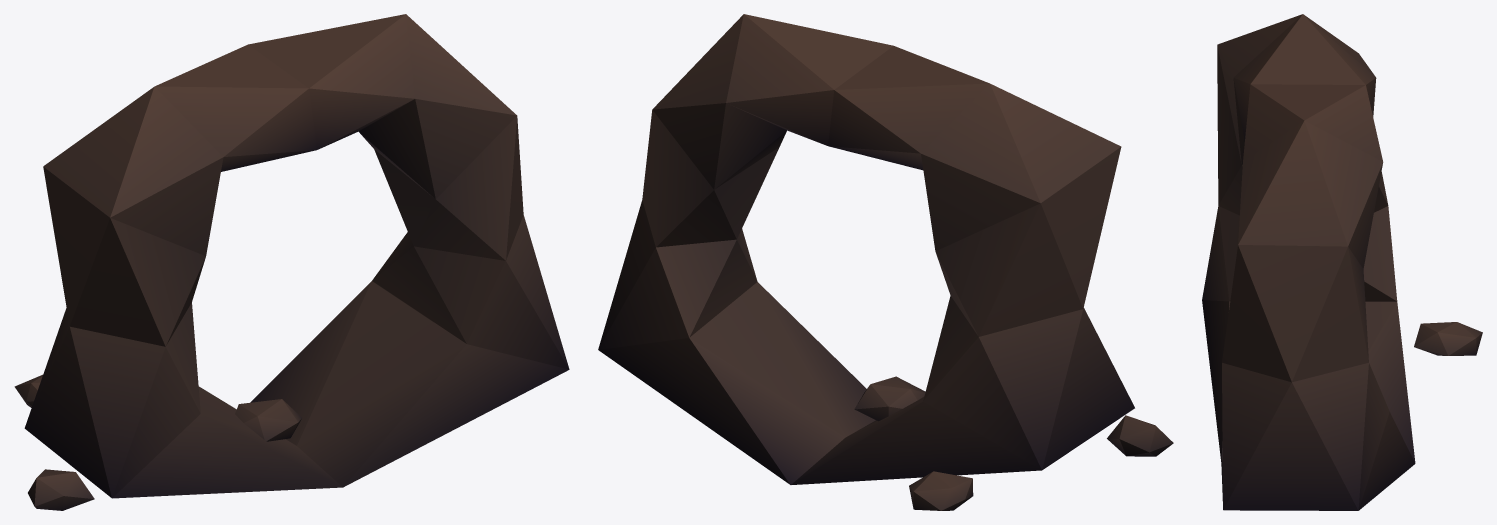
Rendered from arch.lod2.glb.
The picture shows the model from 3 angles, left to right: view 1: azimuth 30°, elevation 25°; view 2: azimuth 150°, elevation 25°; view 3: azimuth 270°, elevation 25°; orthographic projection. The views are drawn at different scales.
Visible parts, largest first — view 1: arch_s1_lod2; view 2: arch_s1_lod2; view 3: arch_s1_lod2.
Part boxes in pixels (<box>): arch_s1_lod2: <box>14,14,569,510</box>; arch_s1_lod2: <box>598,14,1173,510</box>; arch_s1_lod2: <box>1202,14,1482,510</box>.
Bounding box in the file's own units: 6.23 × 4.78 × 3.04.
